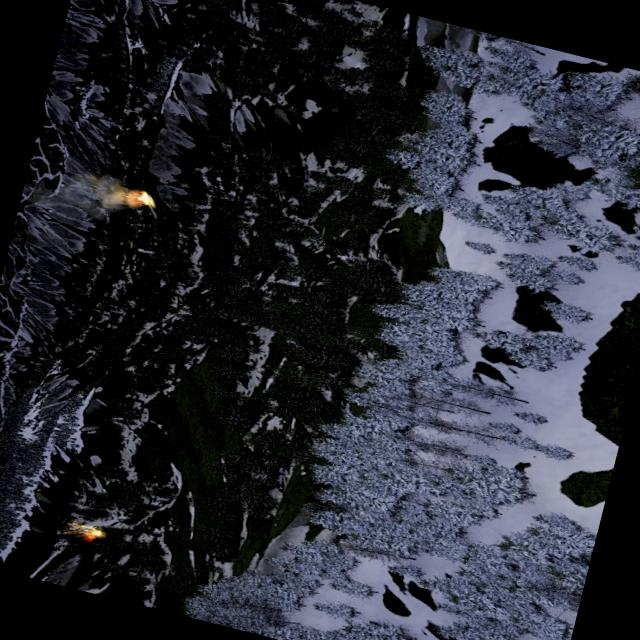fire: (62, 520, 104, 542), (134, 188, 155, 206)
smoke: (60, 164, 138, 220)
